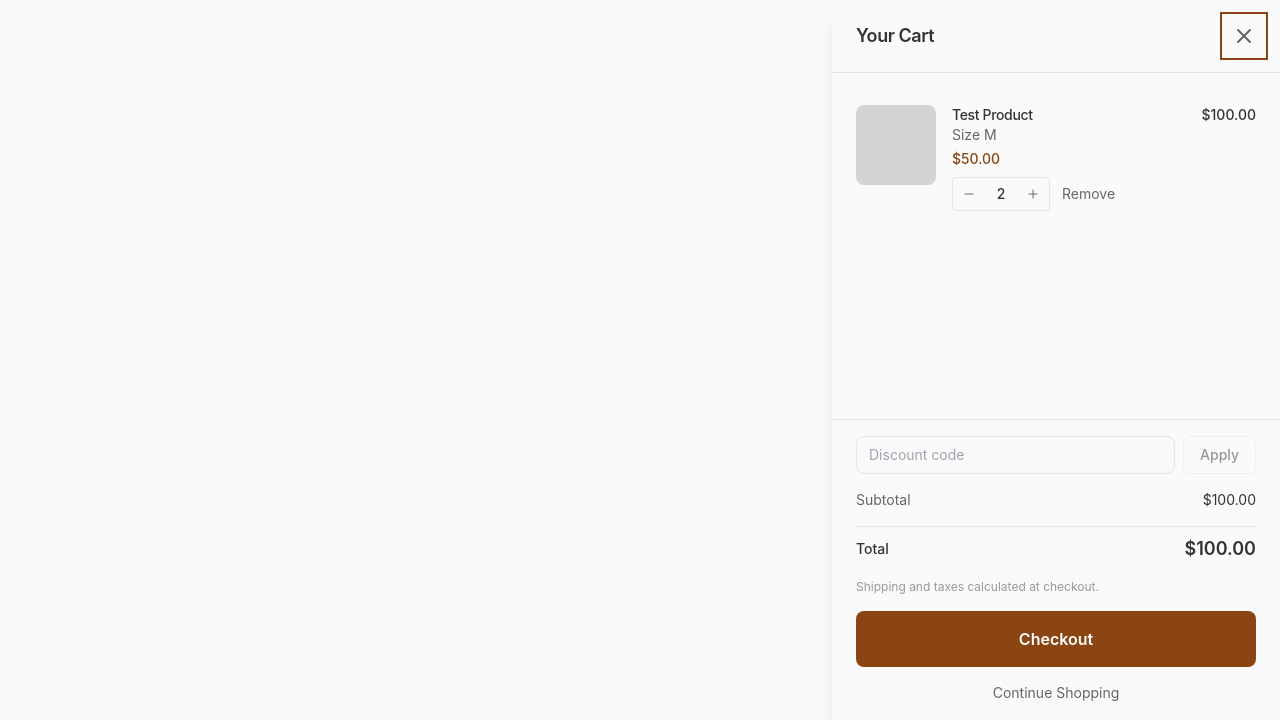
Scenario: CartDrawer › removing discount › clears discount when Remove is clicked
Type "SAVE10" into the field with placeholder "Discount code" at (1016, 455), box [856, 436, 1175, 474]
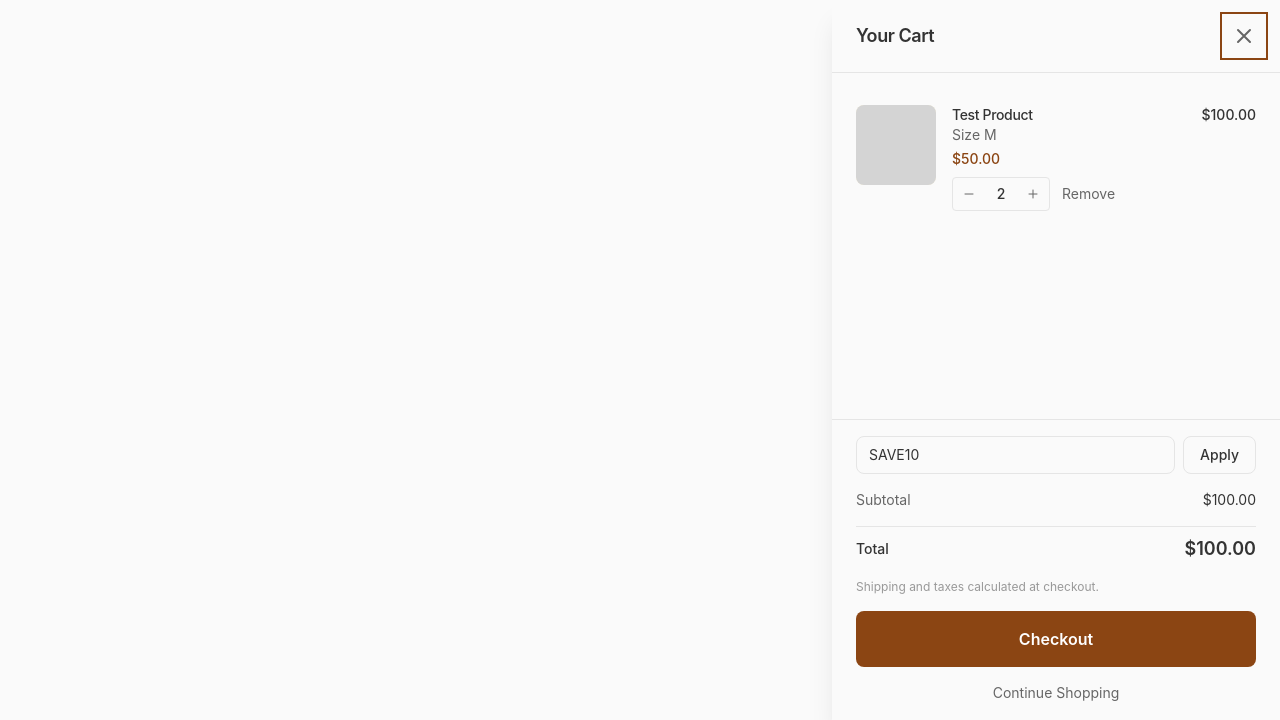
Click the button "Apply" at (1220, 455), box [1183, 436, 1256, 474]
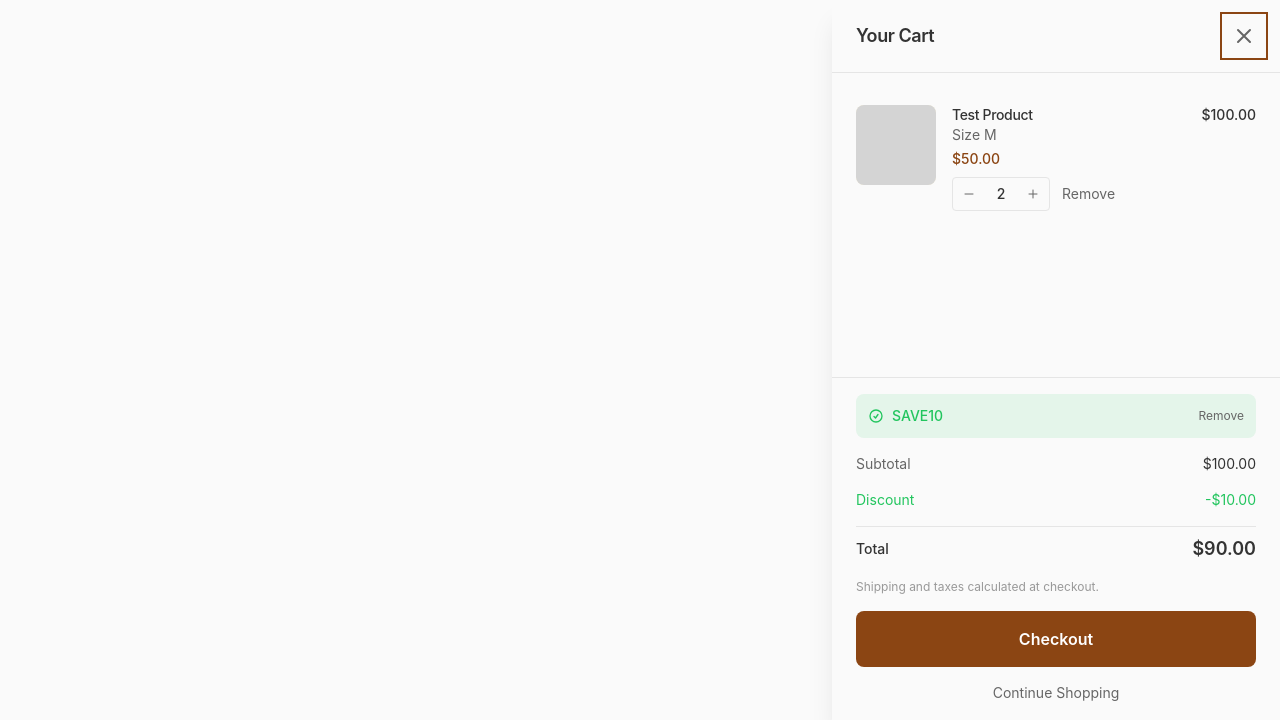
Now the text "SAVE10" is shown, box [892, 406, 943, 426]
Click remove
Click the button "Remove" in the row of "SAVE10" at (1221, 416), box [1198, 408, 1244, 424]
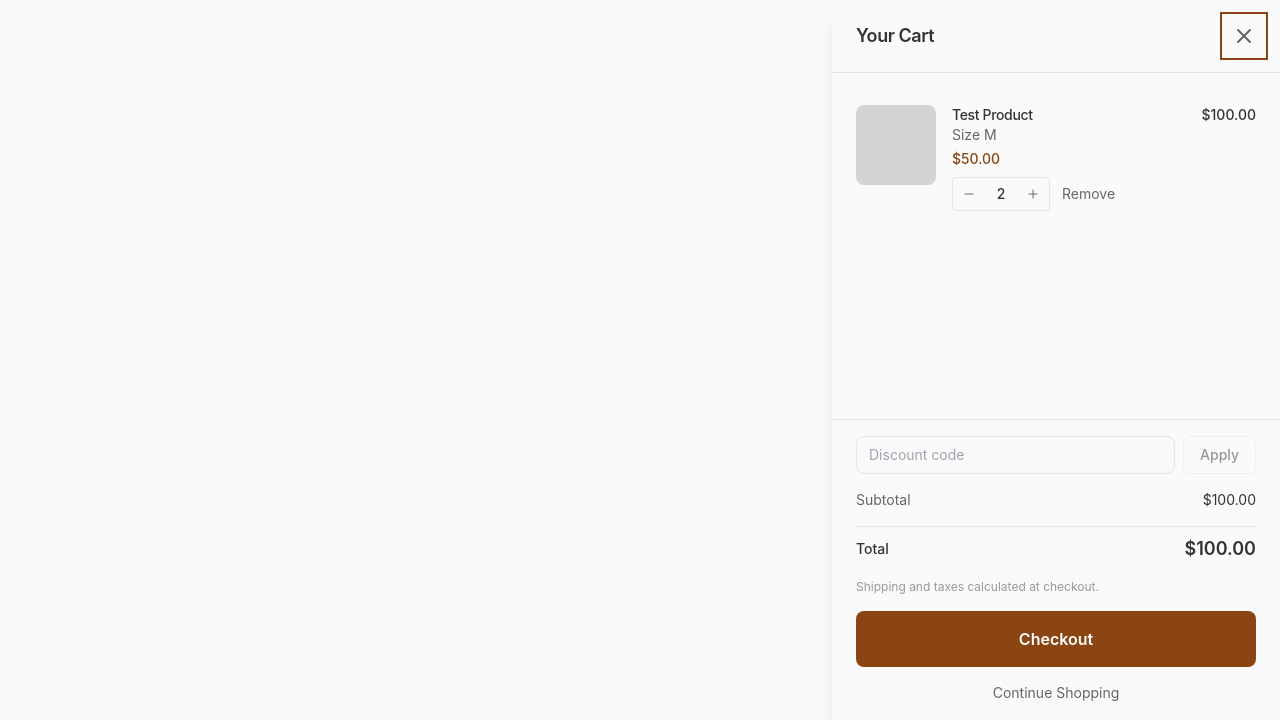
Now the field with placeholder "Discount code" is shown, box [856, 436, 1175, 474]
